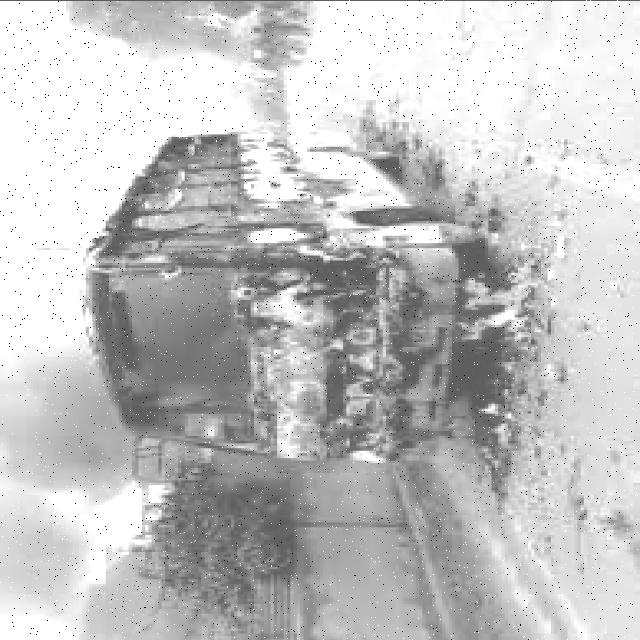api: (262, 231, 493, 485)
